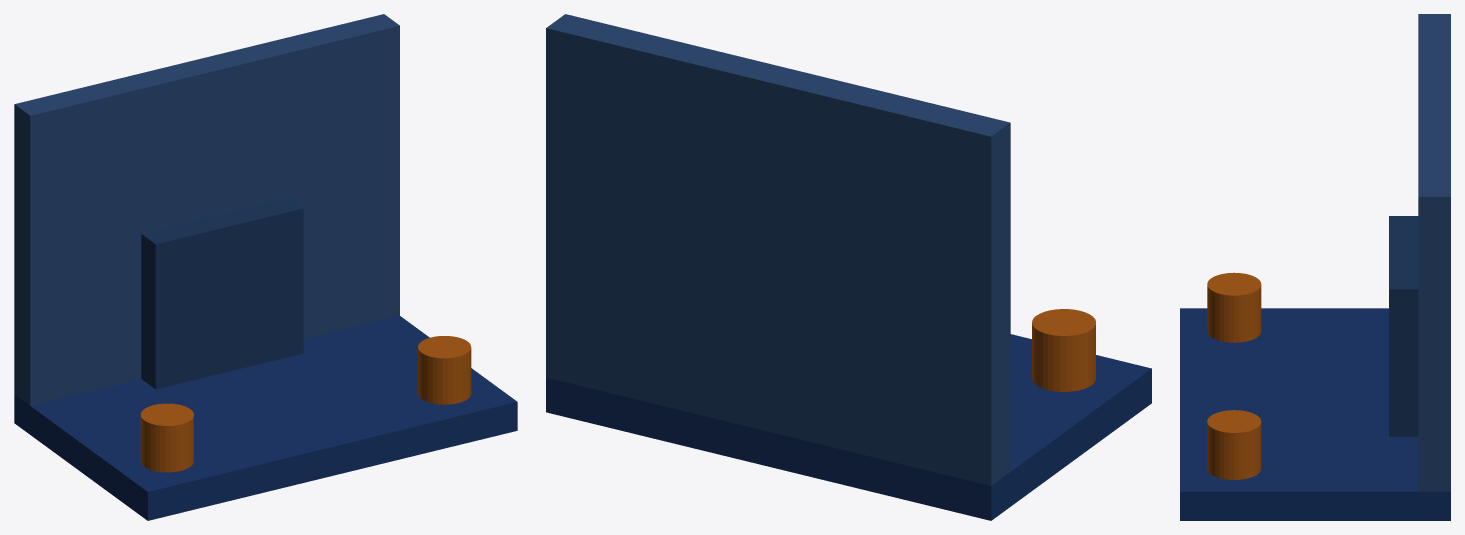
3 renders of one model, left to right at view 1: azimuth 30°, elevation 25°; view 2: azimuth 150°, elevation 25°; view 3: azimuth 270°, elevation 25°, orthographic. The views are drawn at different scales.
Visible parts, largest first — view 1: plate, base, gusset, boss-1, boss-2; view 2: plate, base, boss-1; view 3: base, plate, gusset, boss-1, boss-2.
Boxes of the visible parts, x1,y1,x2,y2 form: plate: (14, 14, 399, 405); base: (14, 316, 517, 520); gusset: (141, 198, 303, 389); boss-1: (140, 403, 193, 472); boss-2: (418, 336, 471, 404); plate: (546, 14, 1010, 485); base: (546, 334, 1151, 520); boss-1: (1032, 309, 1095, 391); base: (1180, 308, 1450, 520); plate: (1418, 14, 1450, 491); gusset: (1389, 216, 1418, 436); boss-1: (1207, 272, 1261, 342); boss-2: (1207, 410, 1261, 479).
Bounding box in the file's own units: 80 × 66 × 50.
